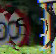Speed limit: (4, 4, 53, 45)
